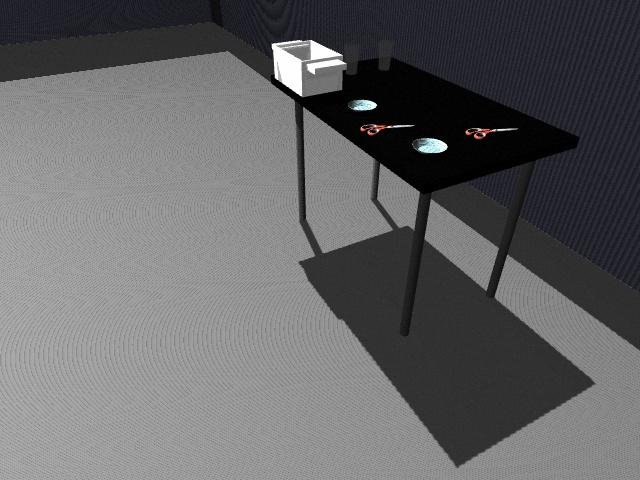cup: (378, 39, 394, 71), (344, 43, 360, 75)
plate: (411, 137, 450, 154), (347, 99, 378, 111)
scissors: (465, 126, 518, 140), (361, 123, 413, 136)
